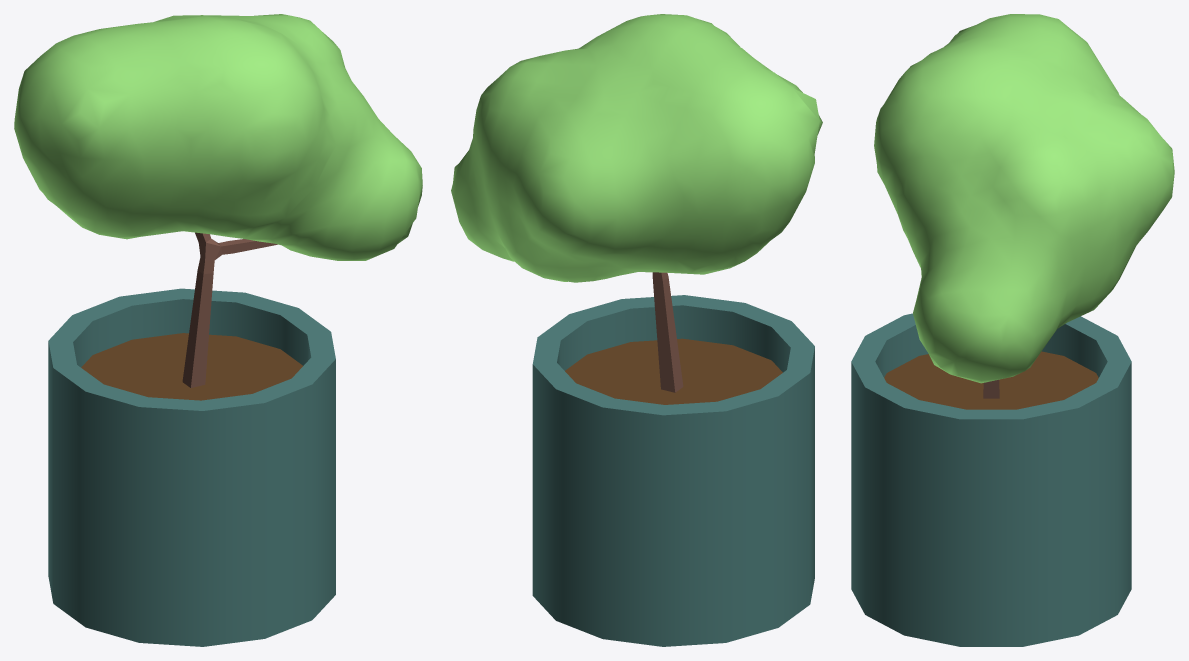
File: future_plant.fbx
3 views of the same model, side by side, from view 1: azimuth 30°, elevation 25°; view 2: azimuth 150°, elevation 25°; view 3: azimuth 270°, elevation 25° (orthographic). The views are drawn at different scales.
Visible parts, largest first — view 1: plant pot.001, Mball.010, Vert.001; view 2: plant pot.001, Mball.010, Vert.001; view 3: plant pot.001, Mball.010.
Boxes of the visible parts, x1,y1,x2,y2 form: plant pot.001: (48,288,335,646); Mball.010: (14,14,422,260); Vert.001: (182,232,277,387); plant pot.001: (532,295,814,646); Mball.010: (451,14,822,282); Vert.001: (652,272,683,392); plant pot.001: (851,313,1131,646); Mball.010: (874,14,1174,383).
Bounding box in the file's own units: 293 × 427 × 231.
